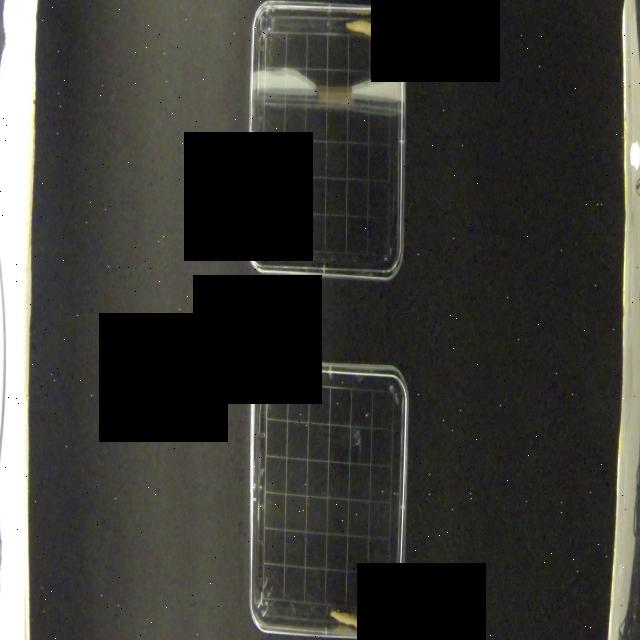larva: (331, 605, 363, 635), (346, 18, 384, 42)
